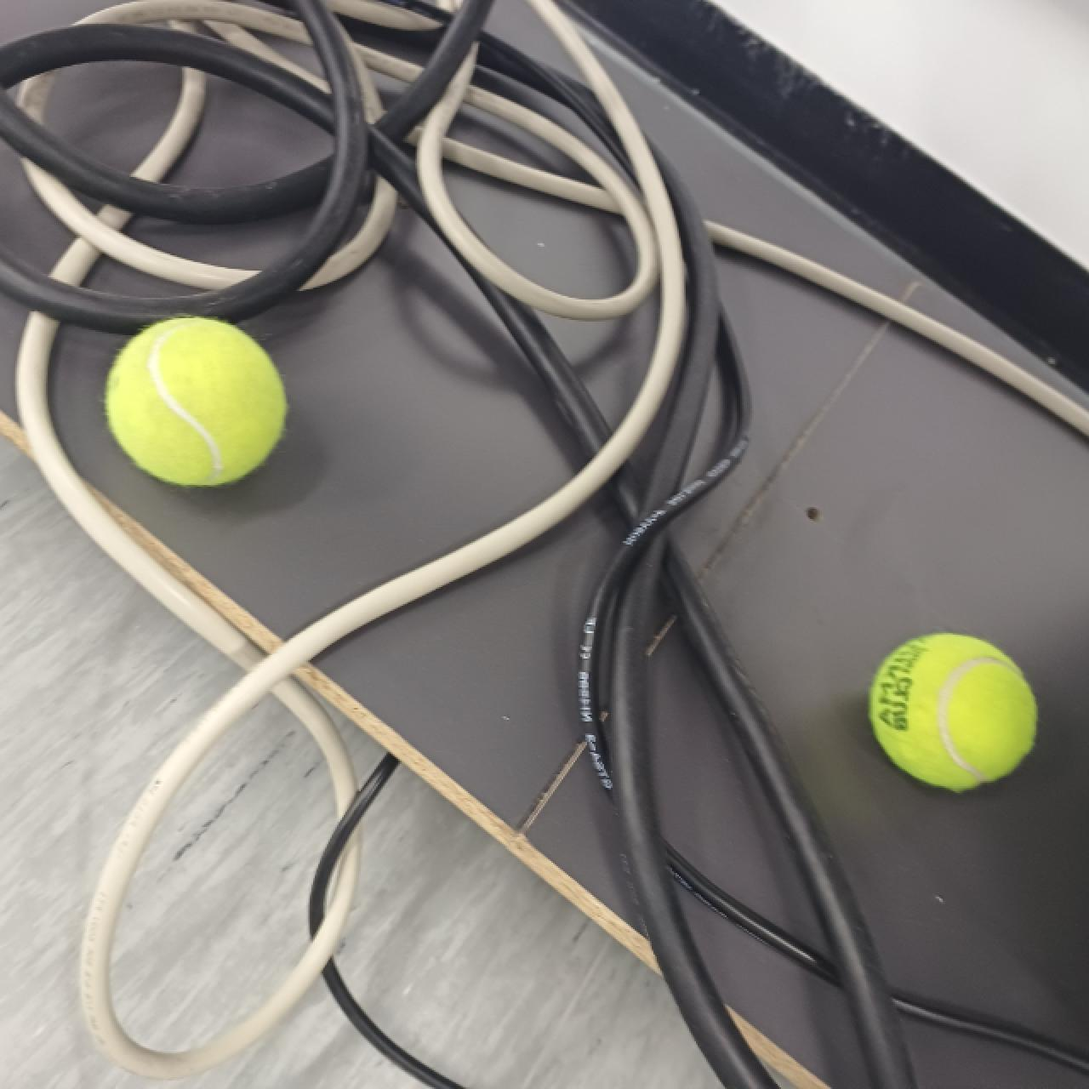tennis-ball: (105, 314, 288, 490), (868, 630, 1041, 794)
